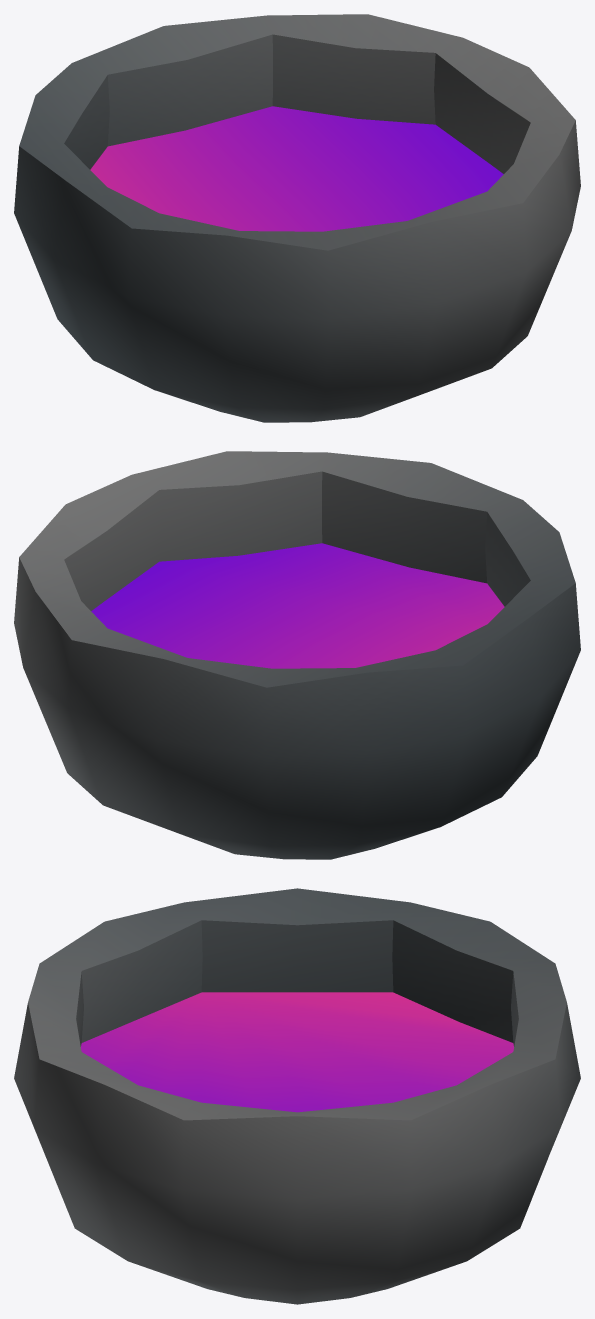
The model's file is ThunderEgg.fbx.
3 renders of one model, top to bottom at view 1: azimuth 30°, elevation 25°; view 2: azimuth 150°, elevation 25°; view 3: azimuth 270°, elevation 25°, orthographic.
Visible parts, largest first — view 1: THUNDER EGG.002; view 2: THUNDER EGG.002; view 3: THUNDER EGG.002.
Boxes of the visible parts, box(x1,y1,x2,y2) form: THUNDER EGG.002: box(14, 14, 580, 422); THUNDER EGG.002: box(14, 451, 580, 859); THUNDER EGG.002: box(14, 888, 580, 1304).
Bounding box in the file's own units: 174 × 84.5 × 174.
2 materials, 2 textured.
